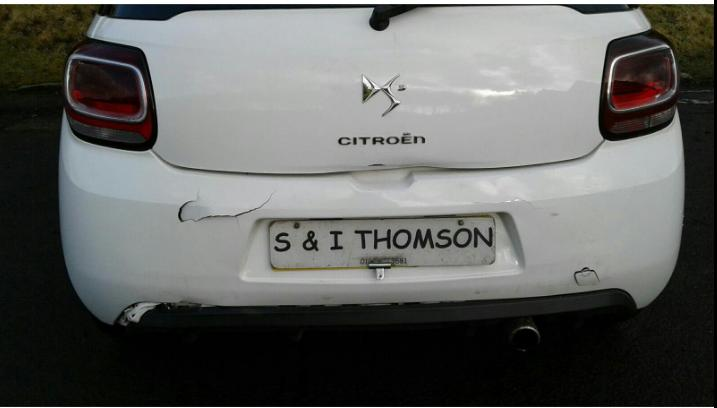Back-bumper: (58, 109, 687, 327)
Back-windshield: (97, 4, 382, 21), (422, 4, 639, 14)
License-plate: (270, 215, 496, 272)
Quarter-panel: (86, 13, 102, 37)
Tail-light: (63, 38, 158, 151), (598, 28, 681, 141)
Trunk: (92, 6, 652, 175)
